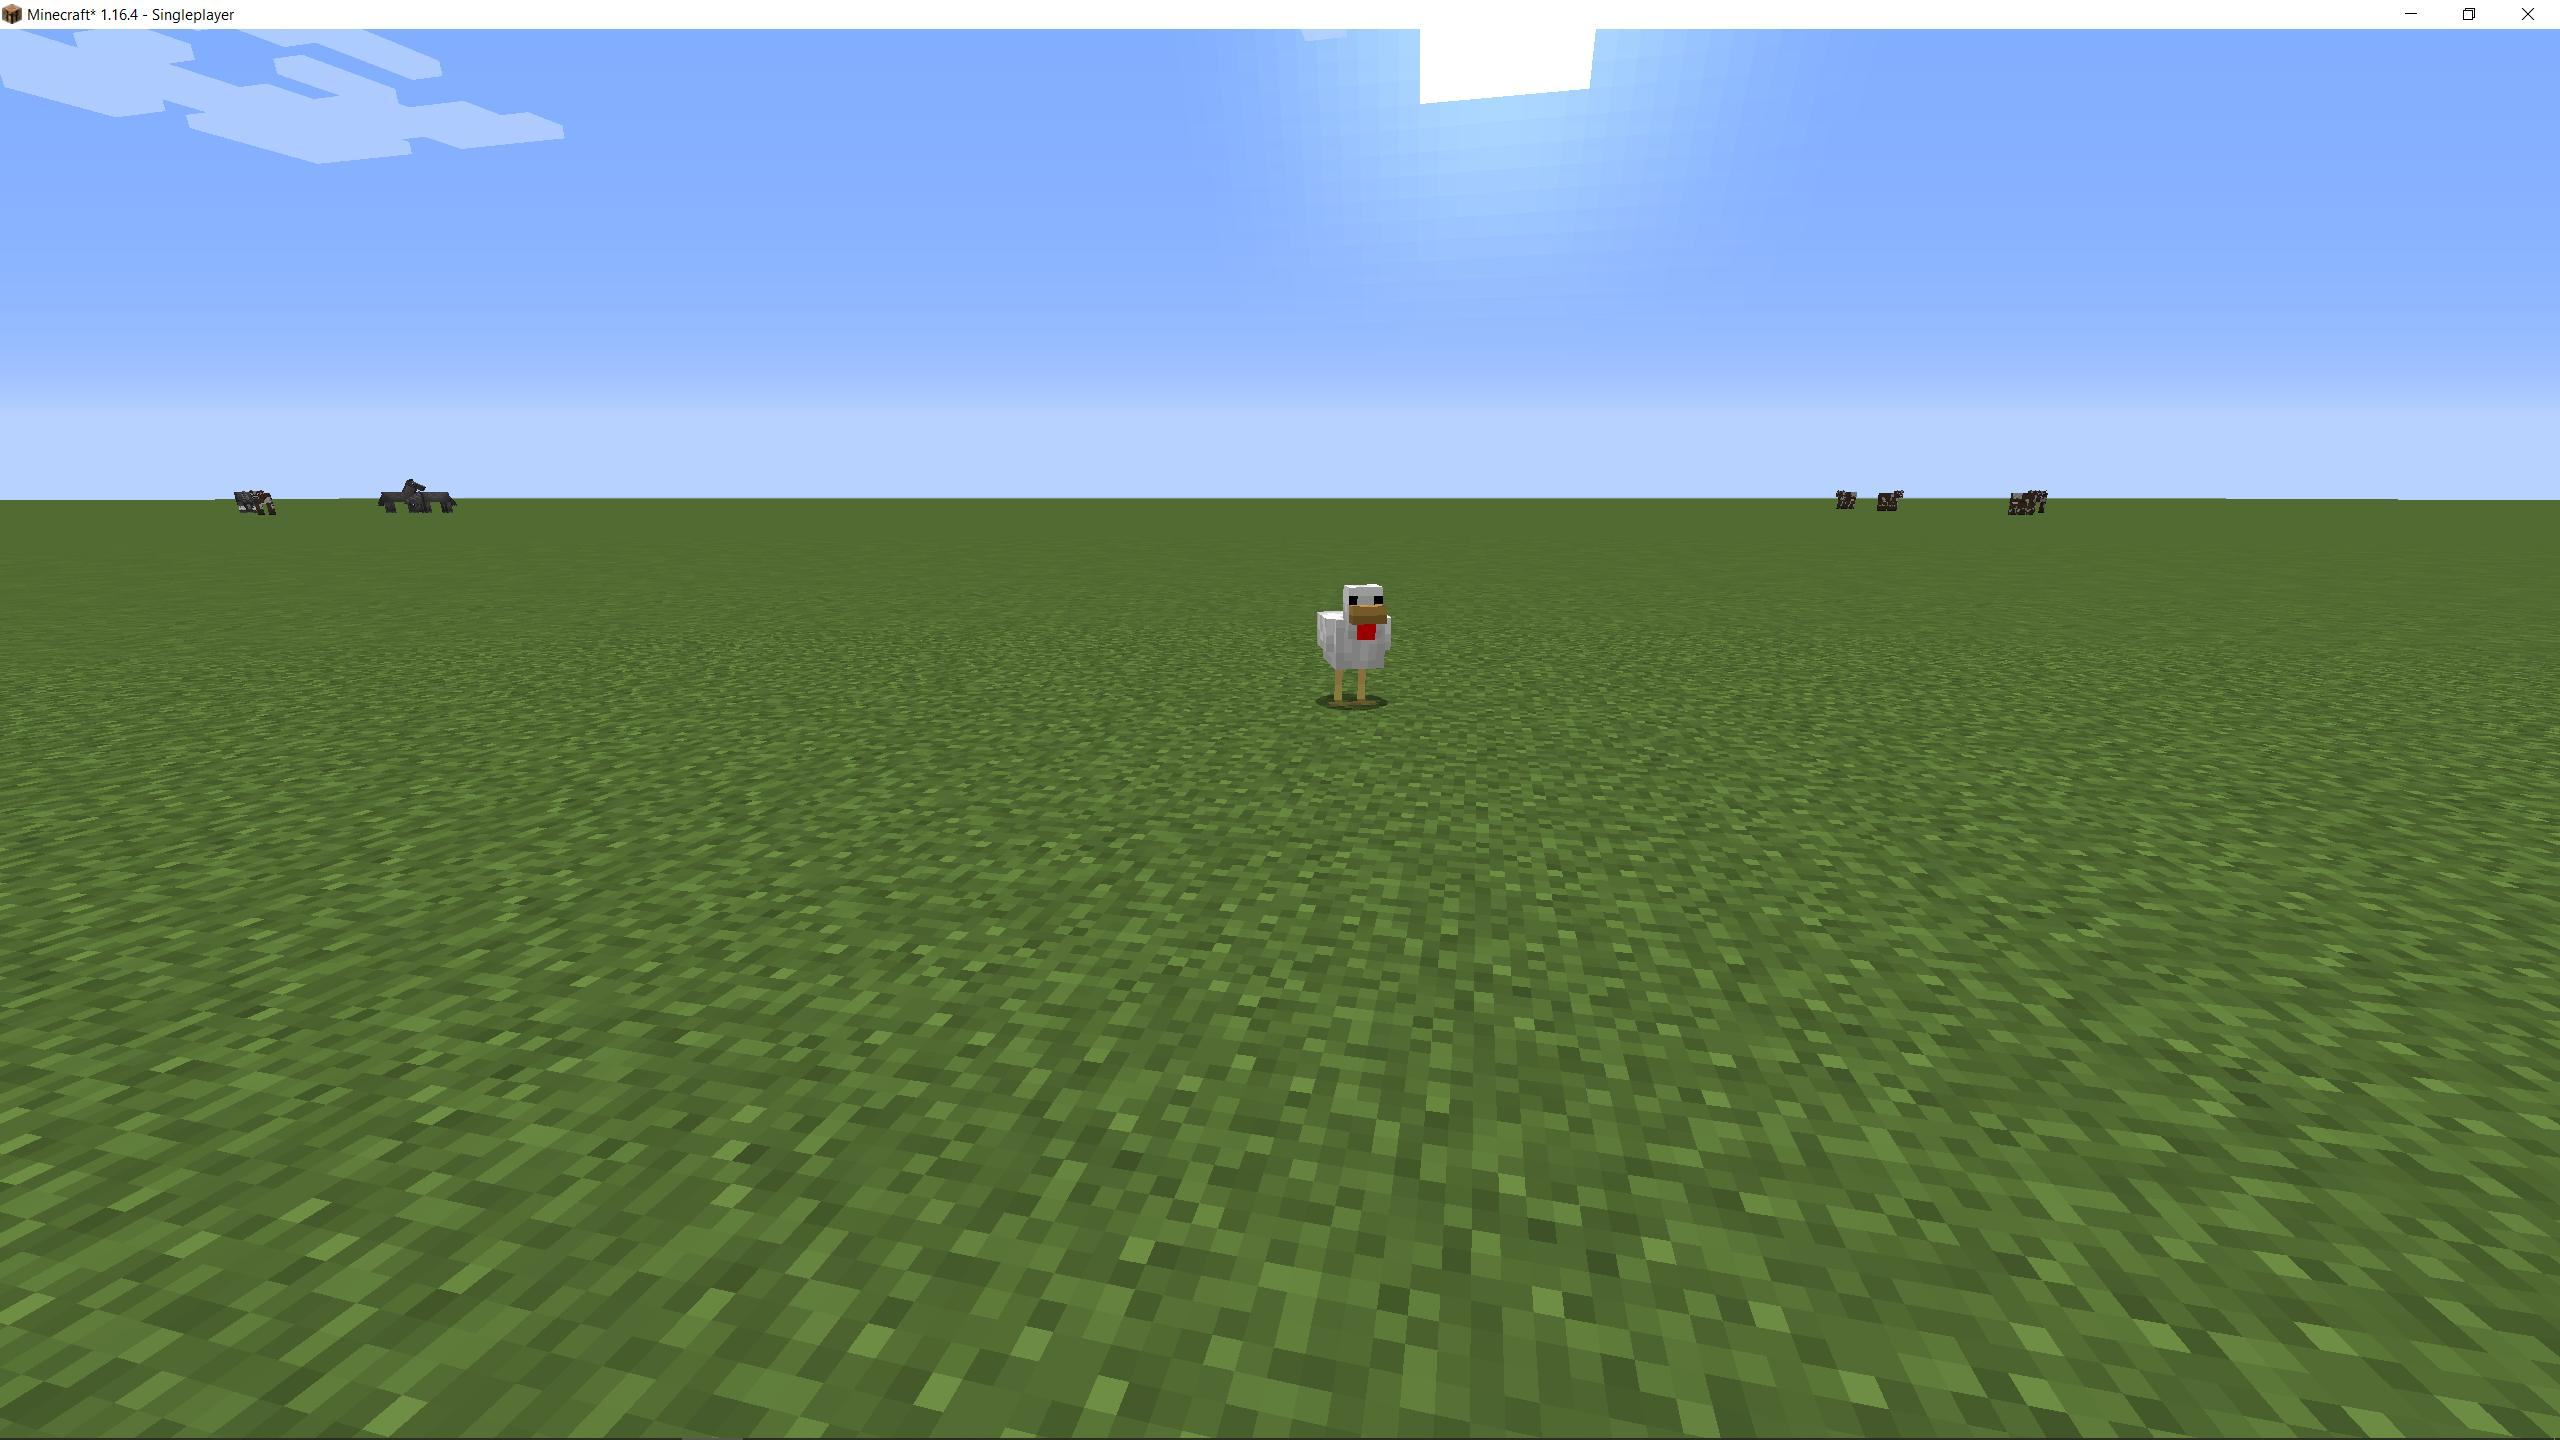chicken: (1313, 580, 1401, 712)
